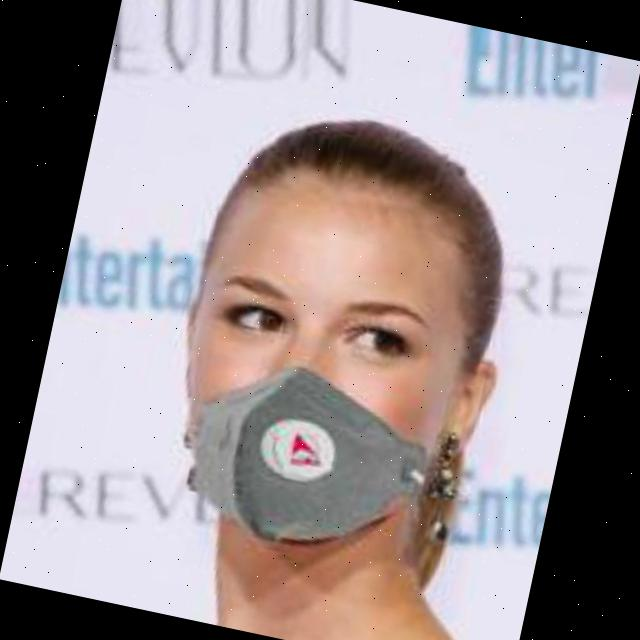suspicion: (154, 117, 508, 573)
